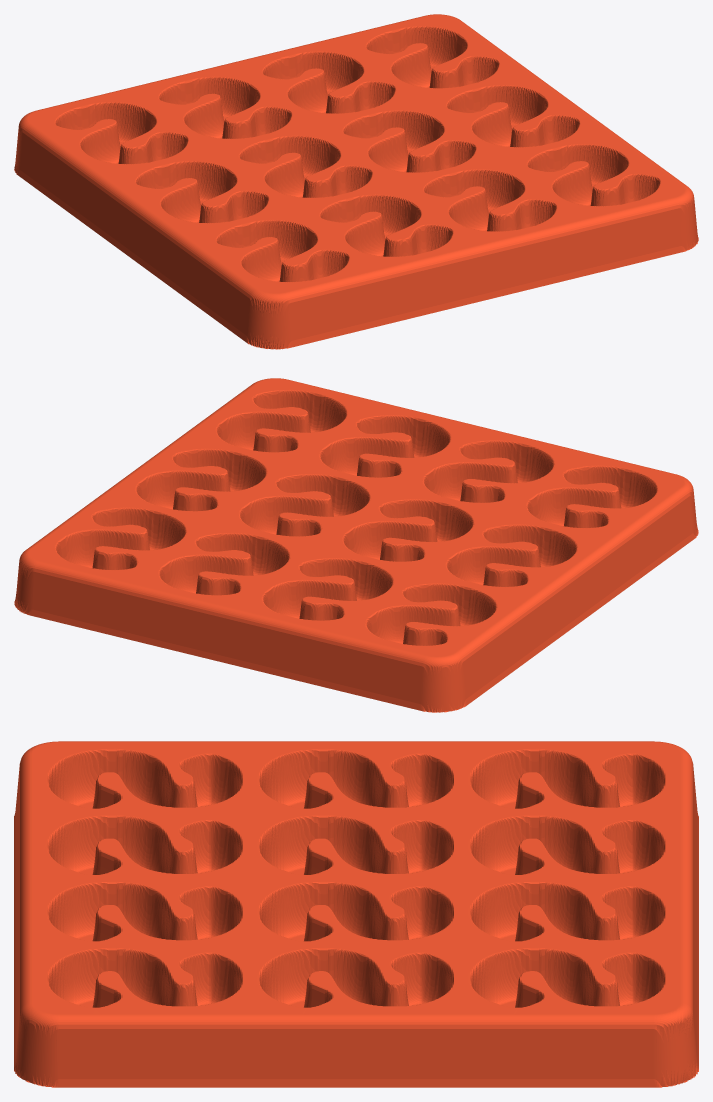
File: mold.glb
The picture shows the model from 3 angles, top to bottom: view 1: azimuth 30°, elevation 25°; view 2: azimuth 150°, elevation 25°; view 3: azimuth 270°, elevation 25°; orthographic projection. The views are drawn at different scales.
Visible parts, largest first — view 1: geometry_0; view 2: geometry_0; view 3: geometry_0.
Boxes of the visible parts, x1,y1,x2,y2 form: geometry_0: [14, 14, 698, 349]; geometry_0: [14, 378, 698, 712]; geometry_0: [14, 741, 698, 1087].
Size of the model in its own units: 0.1362 by 0.0145 by 0.1374.
